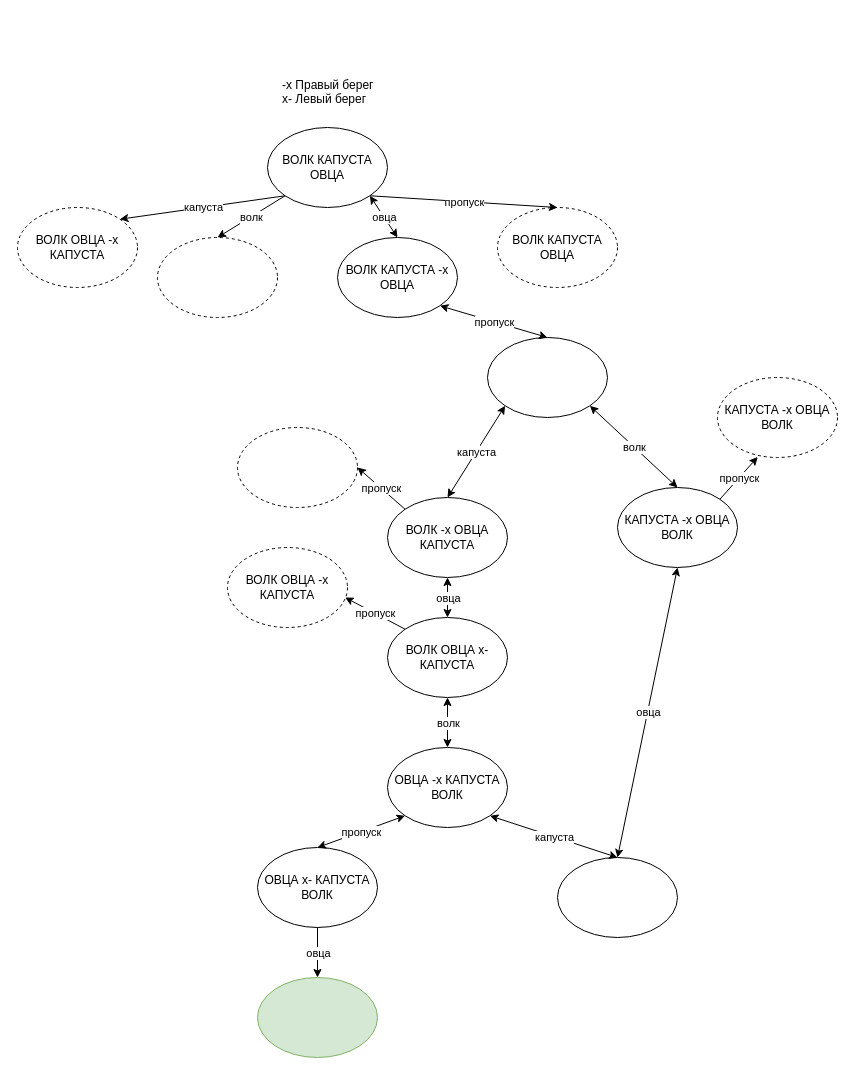
Image size: 855x1075. Some labels were removed from this diagram. Here are the shapes that lost their labels. From the top down, the centre of each, then its label:
At pixel 217 277: "ОВЦА КАПУСТА -х ВОЛК".
At pixel 547 377: "ВОЛК КАПУСТА х- ОВЦА".
At pixel 297 467: "ВОЛК х- ОВЦА КАПУСТА".
At pixel 617 897: "ОВЦА КАПУСТА х- ВОЛК".
At pixel 317 1017: "-х ОВЦА КАПУСТА ВОЛК".
